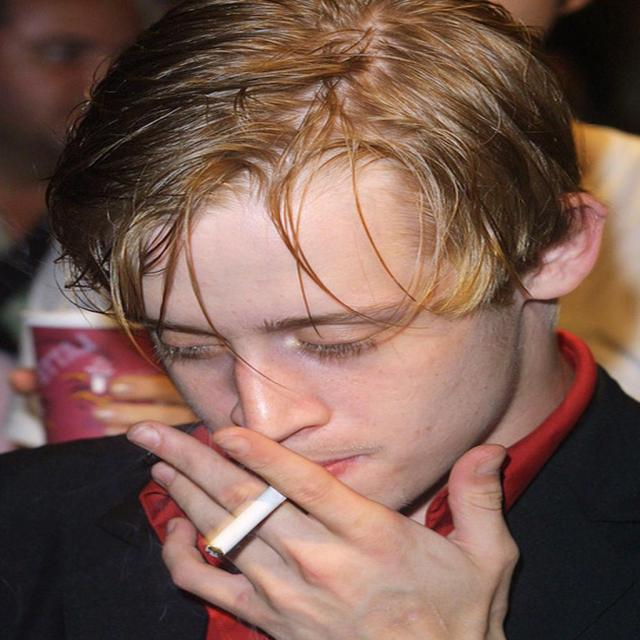smoking: (60, 0, 618, 613)
